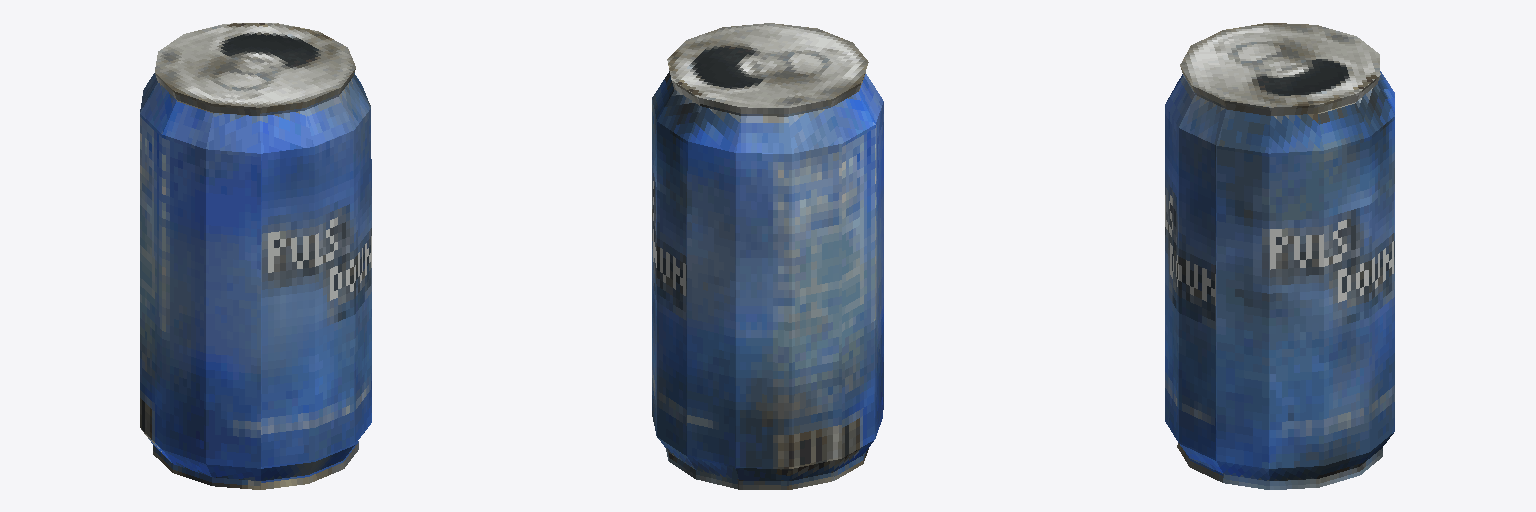
3 renders of one model, left to right at view 1: azimuth 30°, elevation 25°; view 2: azimuth 150°, elevation 25°; view 3: azimuth 270°, elevation 25°, orthographic.
Visible parts, largest first — view 1: soda; view 2: soda; view 3: soda.
Boxes of the visible parts, x1=… form: soda: x1=140, y1=23, x2=371, y2=489; soda: x1=652, y1=23, x2=883, y2=489; soda: x1=1165, y1=23, x2=1394, y2=489.
Size of the model in its own units: 0.1089 by 0.1974 by 0.1081.
Materials: 1 (1 with a texture image).